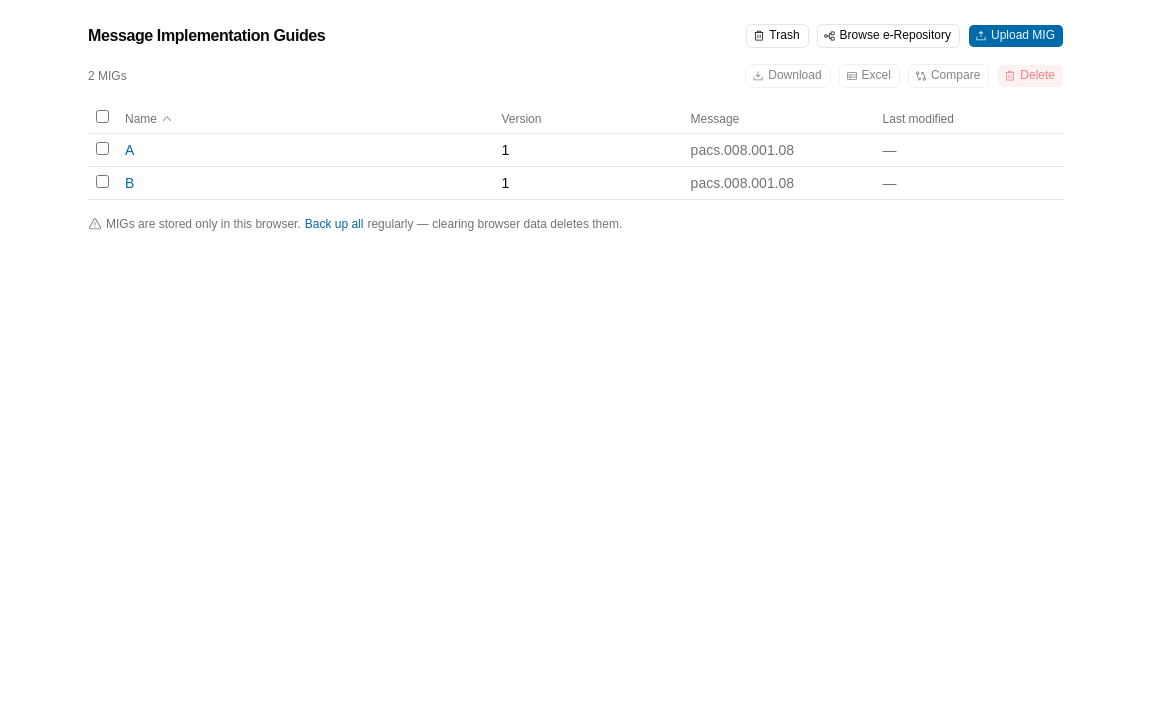
Test: MigHome › moves the selection to the trash after confirming (and bumps the Trash count)
Check: the table is shown, box x1=88 y1=104 x2=1064 y2=200
What coordinates should you click on to do the following:
click the checkbox named "Select A 1"
I would click on:
 (102, 148)
Its box is x1=96 y1=142 x2=109 y2=155.
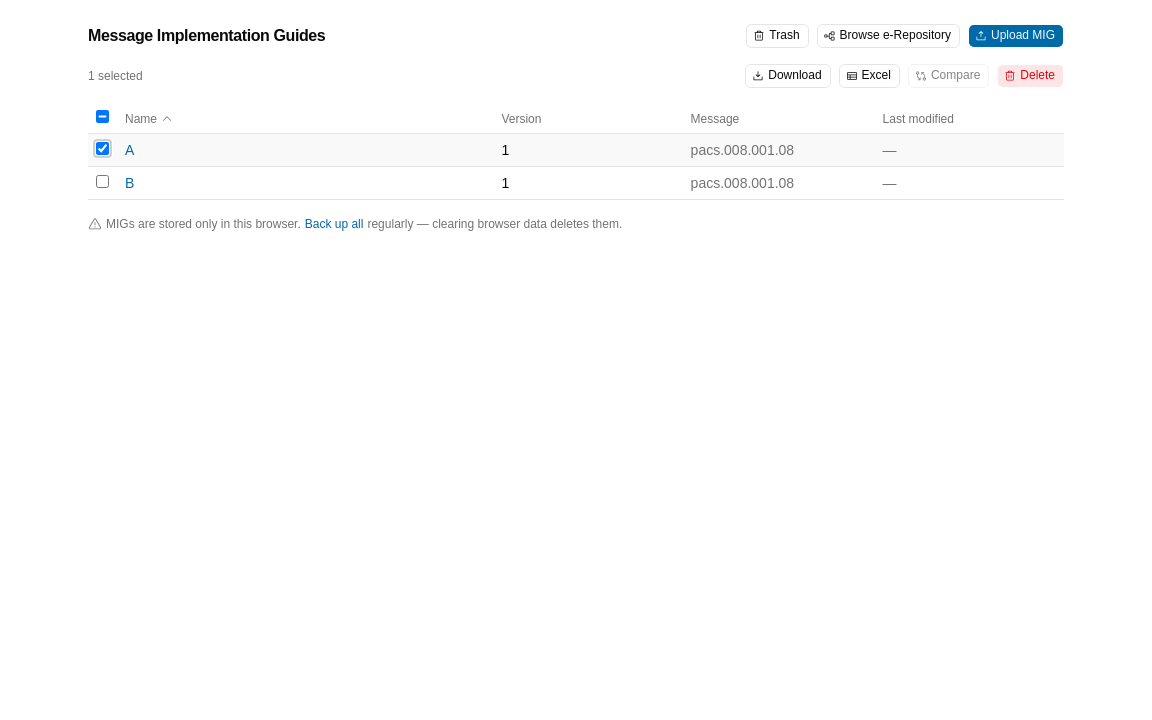
What coordinates should you click on to do the following:
click the button "Delete"
I would click on:
 (1031, 76)
Its box is x1=997 y1=64 x2=1064 y2=88.
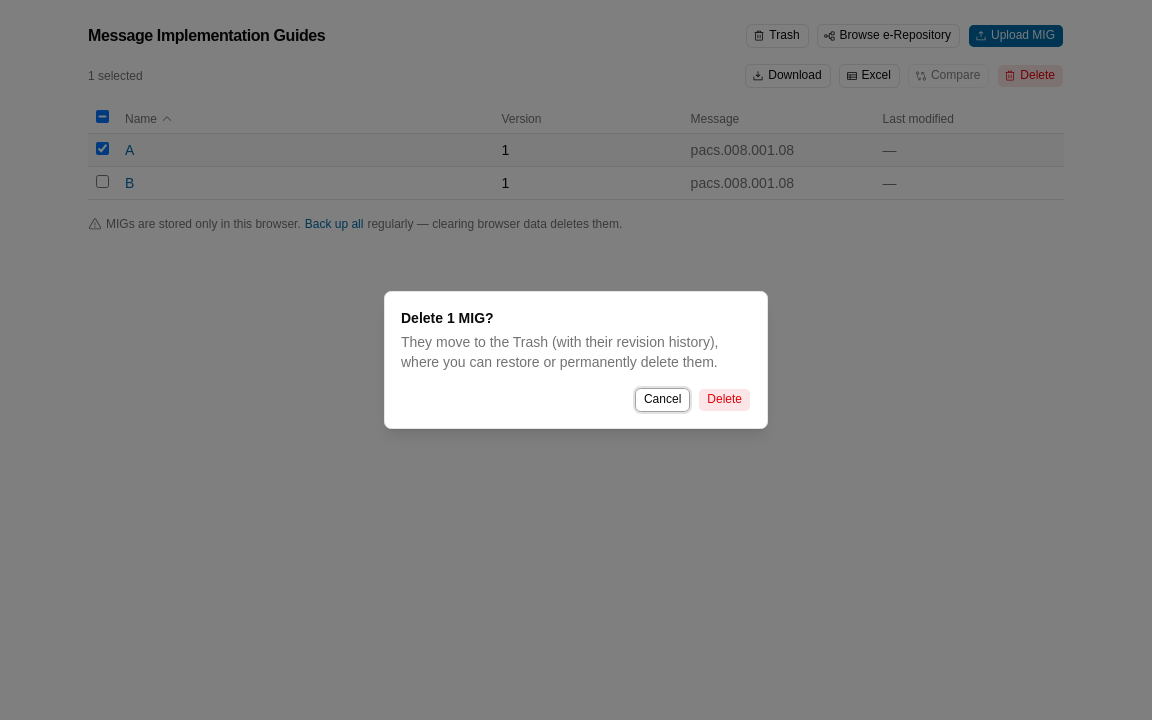
What coordinates should you click on to do the following:
click the button "Delete"
I would click on:
 (725, 400)
Its box is x1=698 y1=388 x2=751 y2=412.
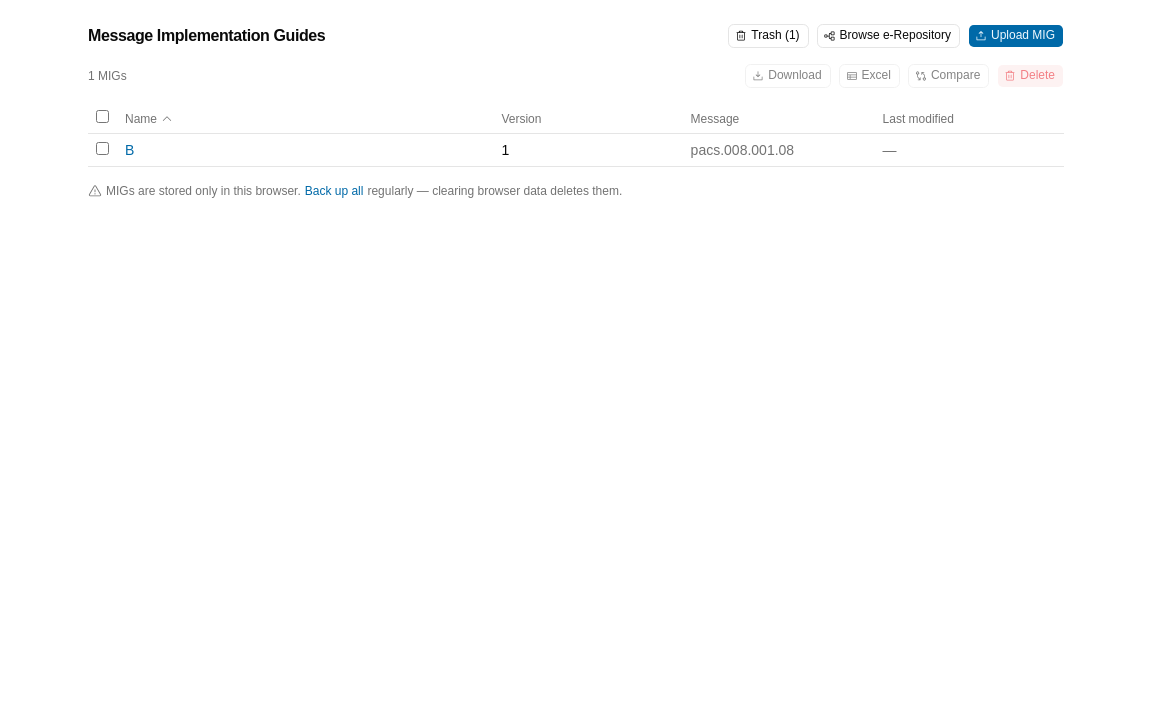
Check: the link "B" is shown, box x1=125 y1=142 x2=134 y2=158
Check: the link "Trash (1)" is shown, box x1=728 y1=24 x2=809 y2=48
